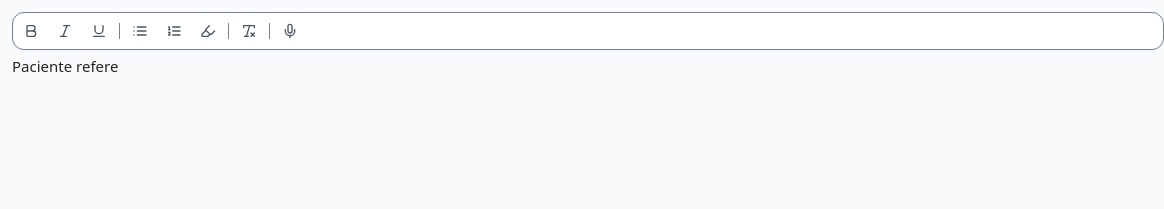
Test case: RichTextEditor — ditado por voz › dita e insere o texto no cursor, separado por espaço
The width and height of the screenshot is (1164, 209).
Check: the field labelled "Paciente refere" is shown, box [12,56,118,76]
Press the mouse on the button titled "Ditar por voz": (290, 31) [274,15,306,47]
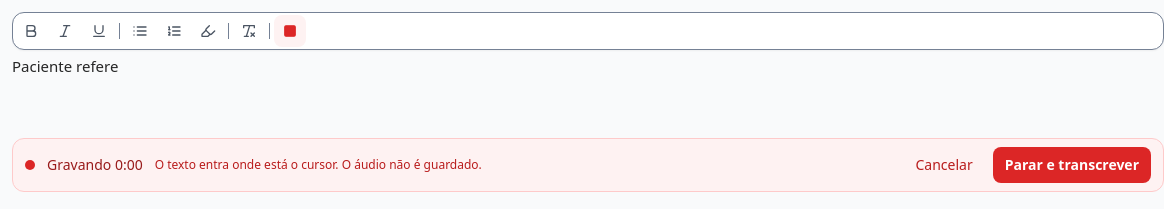
Check: the text "Gravando 0:00" is shown, box [47,155,143,175]
Click the button "Parar e transcrever": (1072, 165) [993,147,1151,183]
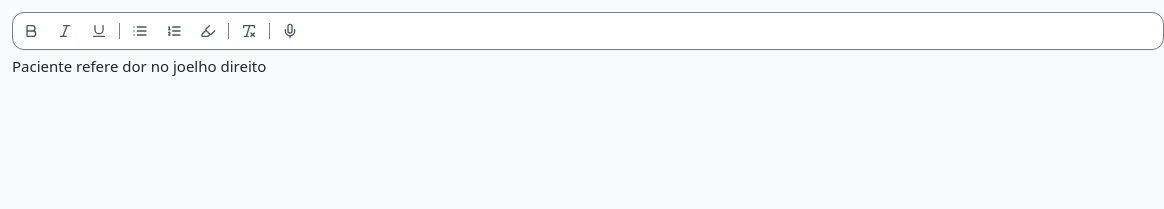
Check: the text "Gravando" is gone
